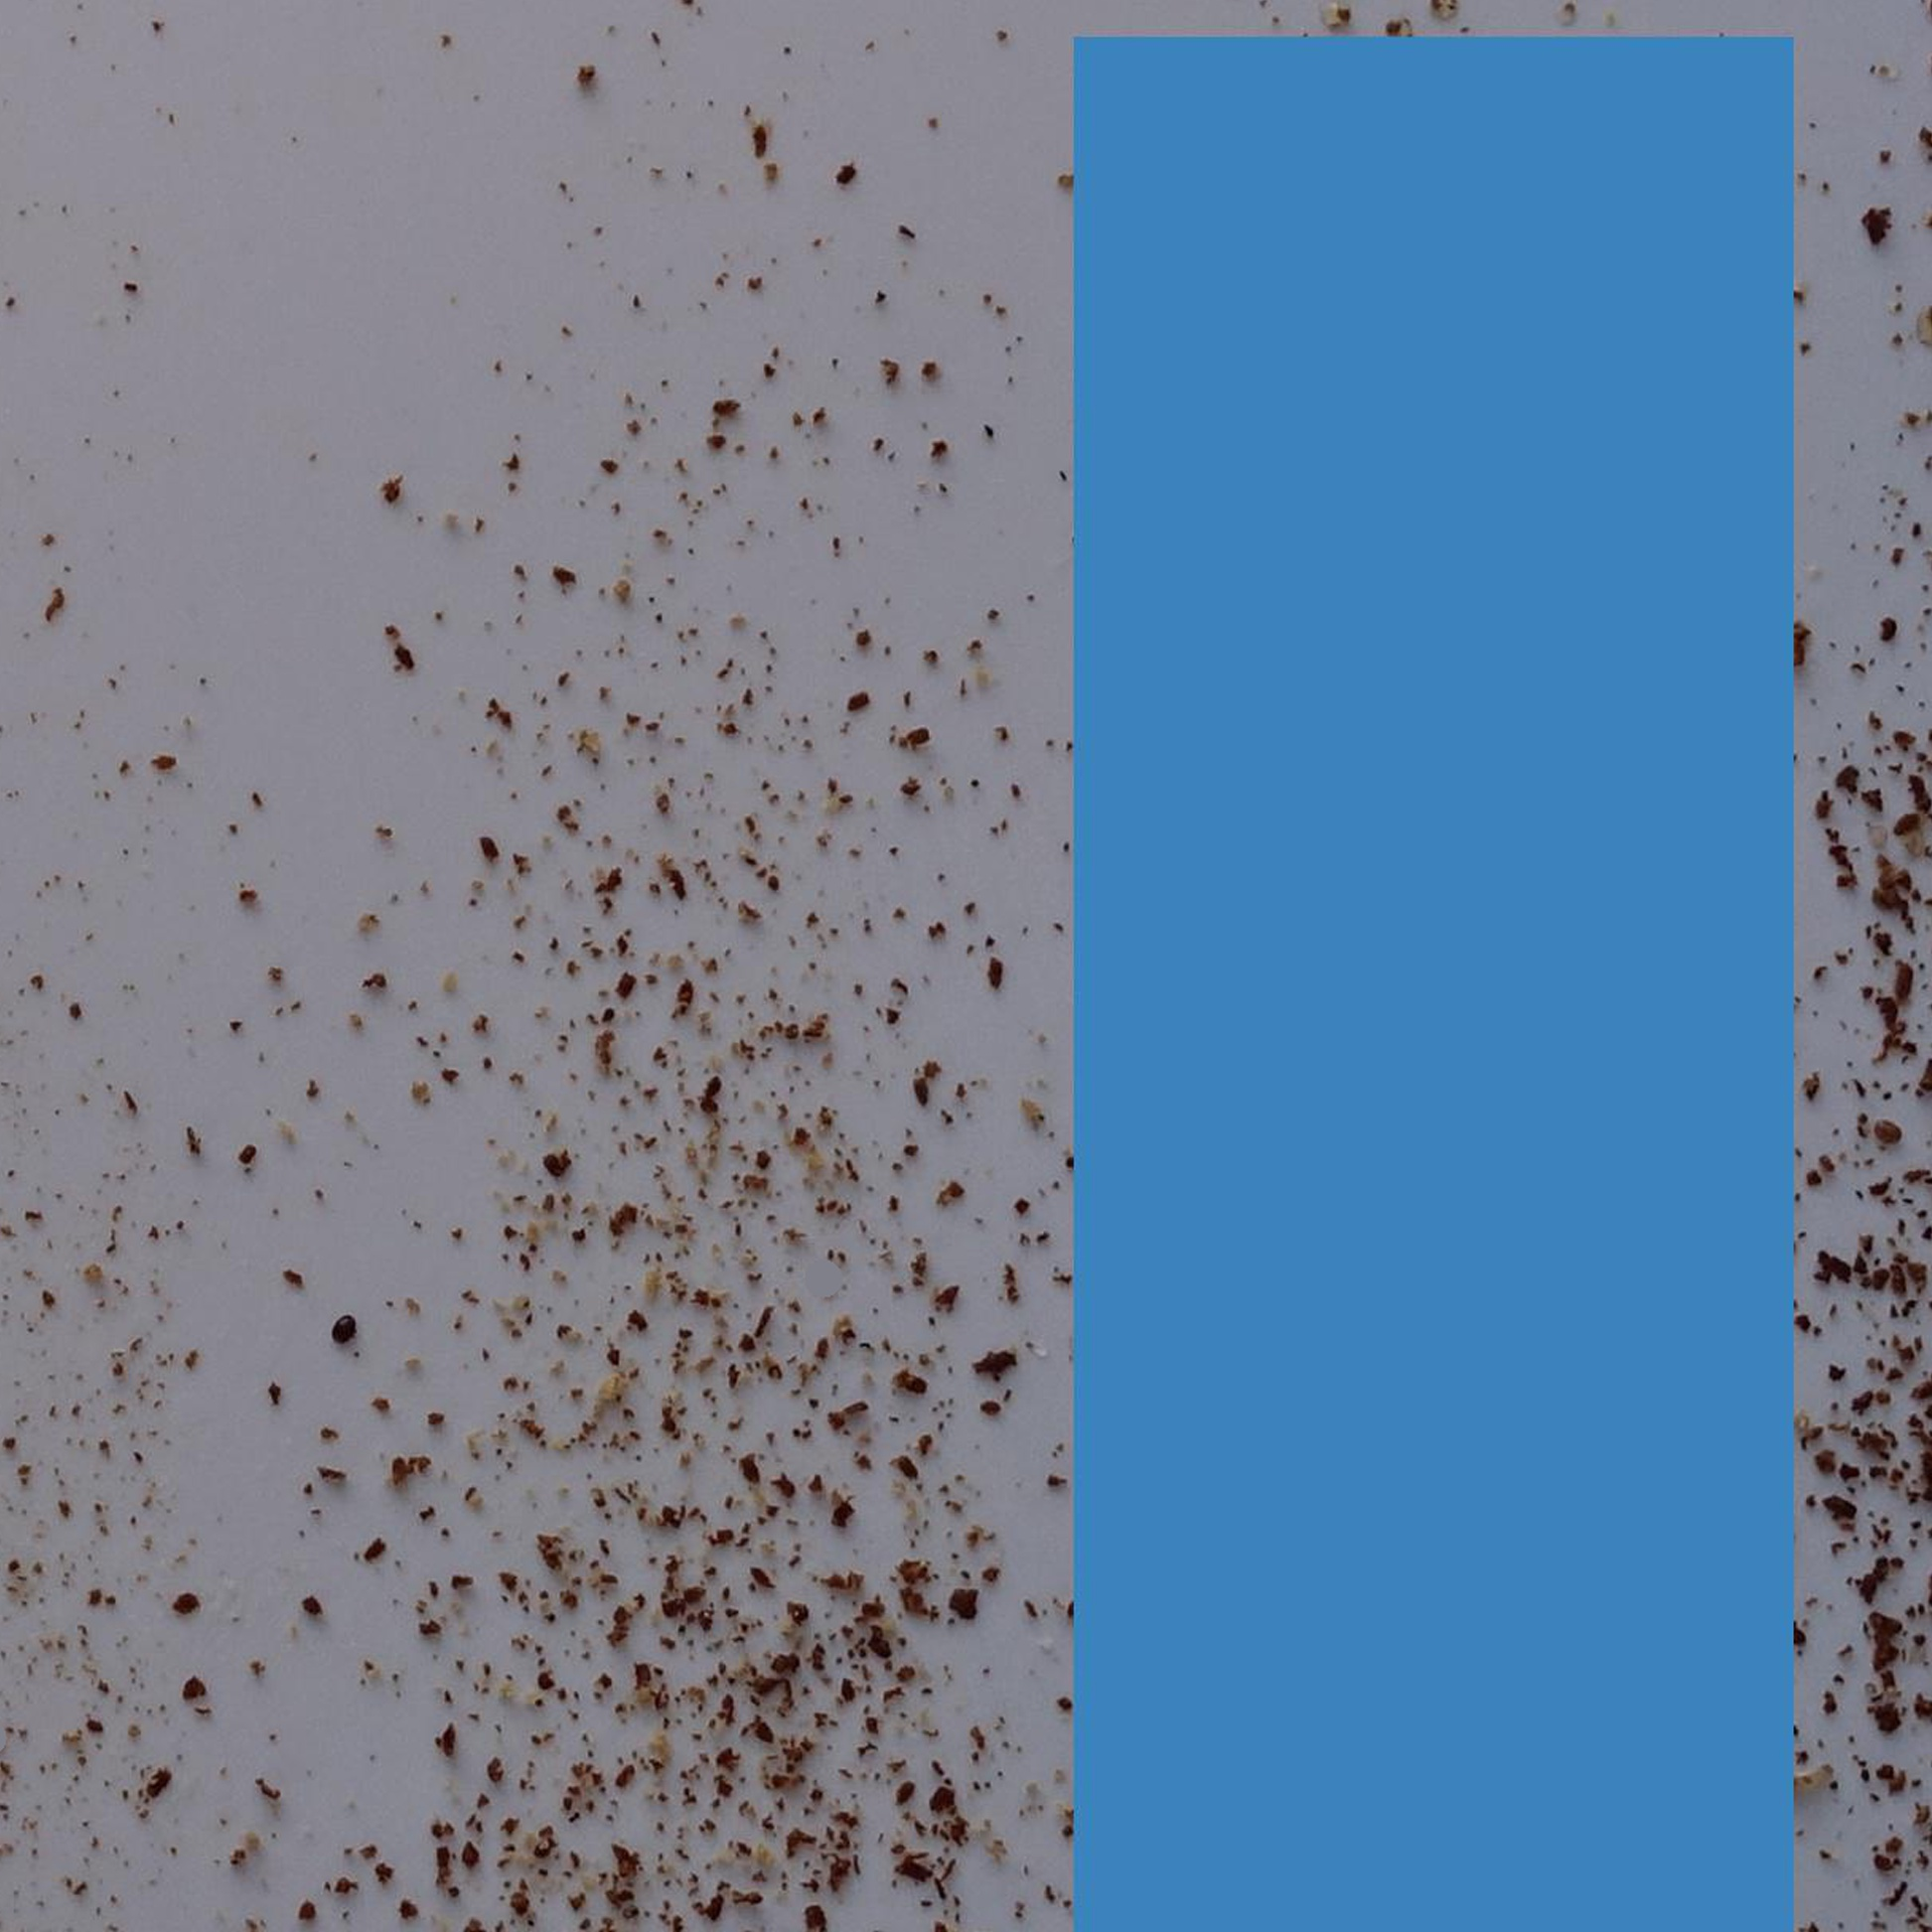Varroa: (1856, 205, 1900, 249), (690, 1062, 734, 1106), (1879, 1118, 1902, 1145), (338, 1334, 352, 1345), (343, 1320, 354, 1330)
